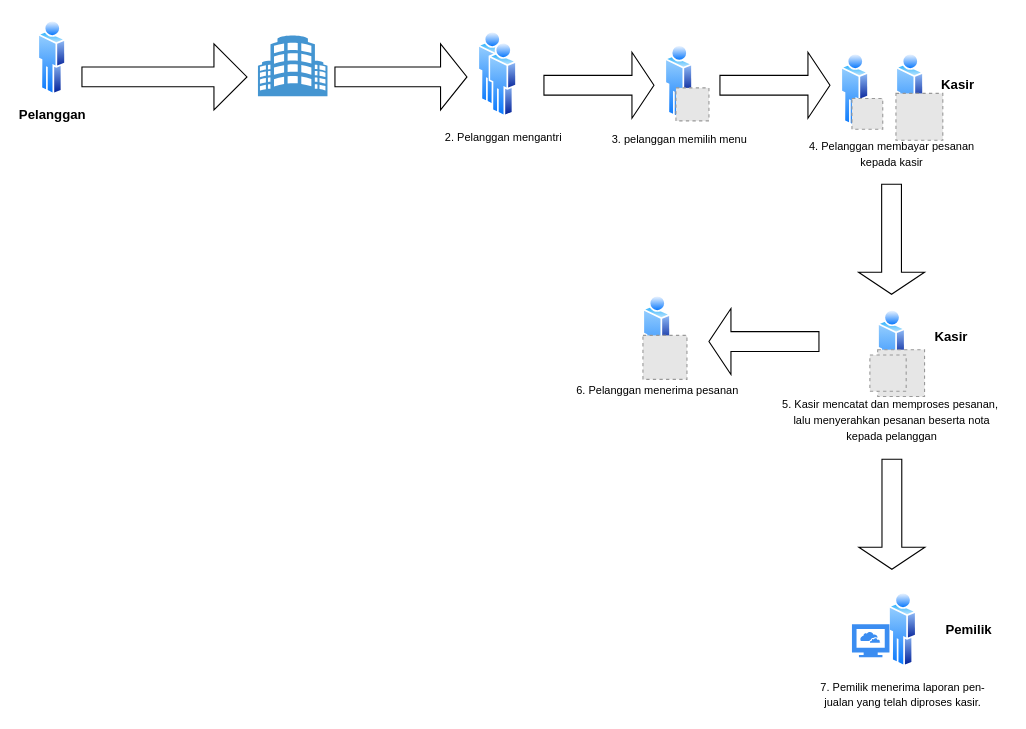
The diagram is 1026 pixels wide and 729 high, and some of its shapes have lost their labels. Grey dashed boxes stand in for pictures. Each missing label, with the centre of its shape:
"1. Pelanggan datang ke Bcoffee" goes at point 164,76.
"Toko Bcoffee" goes at point 292,65.
